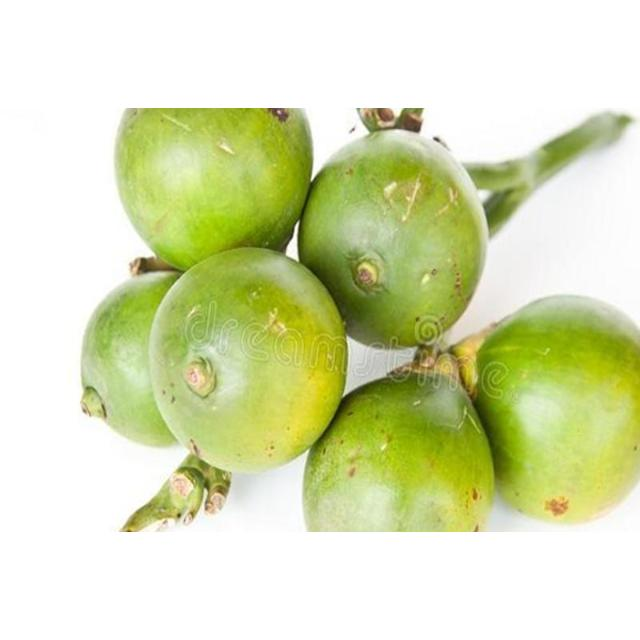good: (148, 250, 346, 468), (299, 123, 485, 349), (472, 295, 640, 525), (304, 362, 496, 532), (117, 108, 313, 270), (80, 270, 190, 448)
